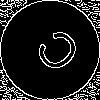C: (25, 25, 84, 83)
